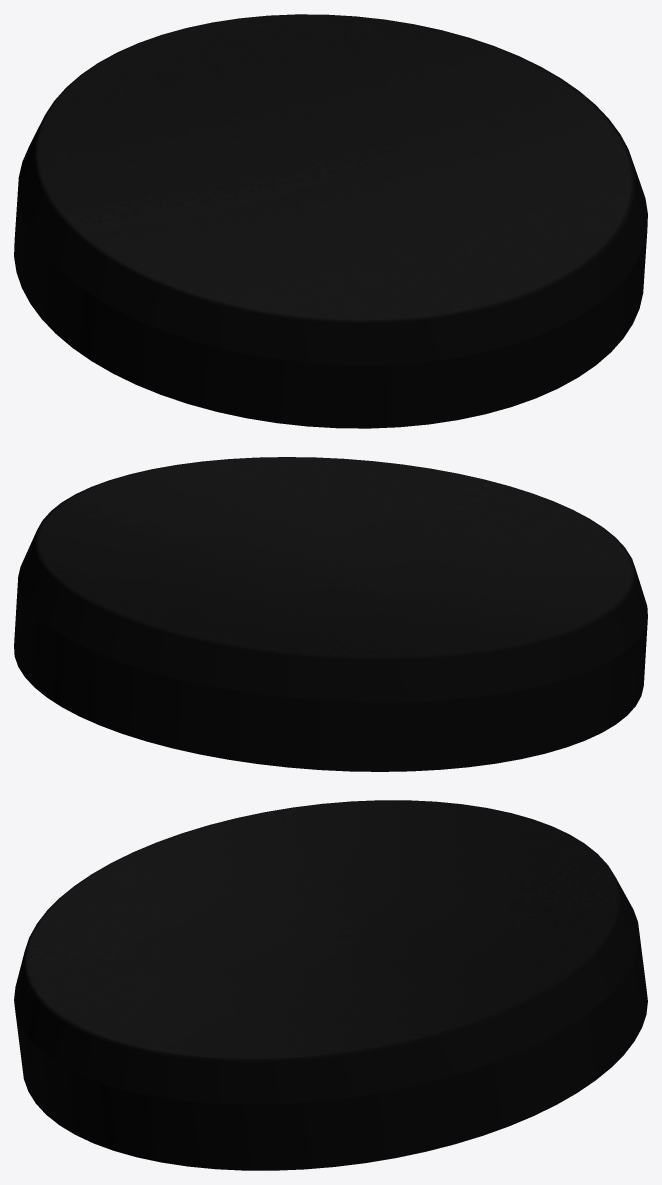
The model's file is vive_trackpad.fbx.
The picture shows the model from 3 angles, top to bottom: view 1: azimuth 30°, elevation 25°; view 2: azimuth 150°, elevation 25°; view 3: azimuth 270°, elevation 25°; orthographic projection.
Parts seen in each view (by area): view 1: trackpad group1; view 2: trackpad group1; view 3: trackpad group1.
Part boxes in pixels (x1,y1,x2,y2): trackpad group1: (14, 14, 647, 428); trackpad group1: (14, 457, 647, 771); trackpad group1: (14, 800, 647, 1170).
Bounding box in the file's own units: 4.28 × 1.25 × 4.31.
Materials: 1 (1 with a texture image).
